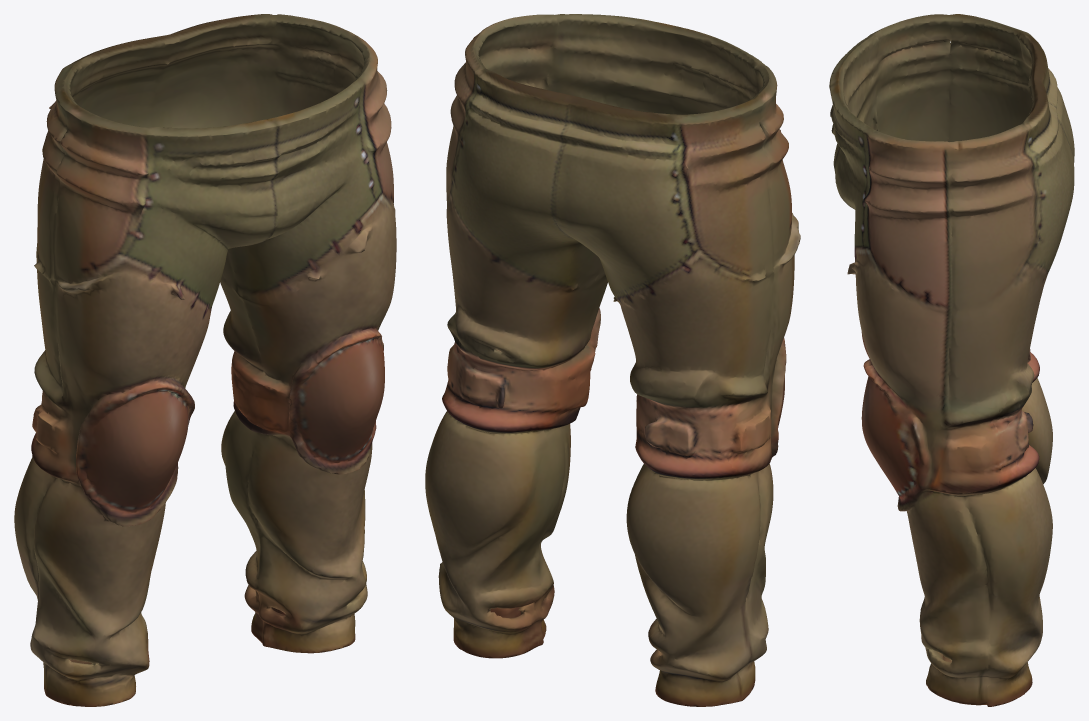
Rendered from calca-arqueiro.glb.
The picture shows the model from 3 angles, left to right: view 1: azimuth 30°, elevation 25°; view 2: azimuth 150°, elevation 25°; view 3: azimuth 270°, elevation 25°; orthographic projection. The views are drawn at different scales.
Visible parts, largest first — view 1: tripo_node_f950e674-797e-4c8a-a71c-9a79cf78cb66.001; view 2: tripo_node_f950e674-797e-4c8a-a71c-9a79cf78cb66.001; view 3: tripo_node_f950e674-797e-4c8a-a71c-9a79cf78cb66.001.
Part boxes in pixels (left/top/right/bottom): tripo_node_f950e674-797e-4c8a-a71c-9a79cf78cb66.001: left=14, top=14, right=396, bottom=706; tripo_node_f950e674-797e-4c8a-a71c-9a79cf78cb66.001: left=425, top=14, right=800, bottom=706; tripo_node_f950e674-797e-4c8a-a71c-9a79cf78cb66.001: left=829, top=14, right=1074, bottom=706.
Bounding box in the file's own units: 0.1642 × 0.285 × 0.1123.
Materials: 1 (1 with a texture image).
